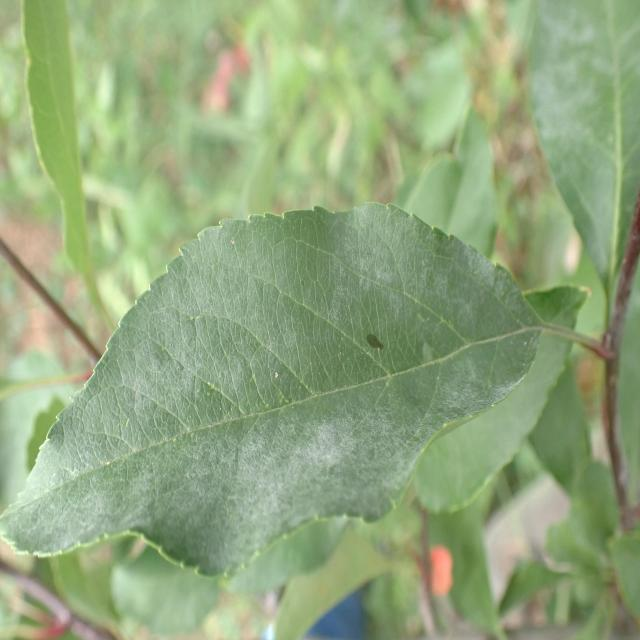Powdery_mildew: (24, 165, 518, 545)
